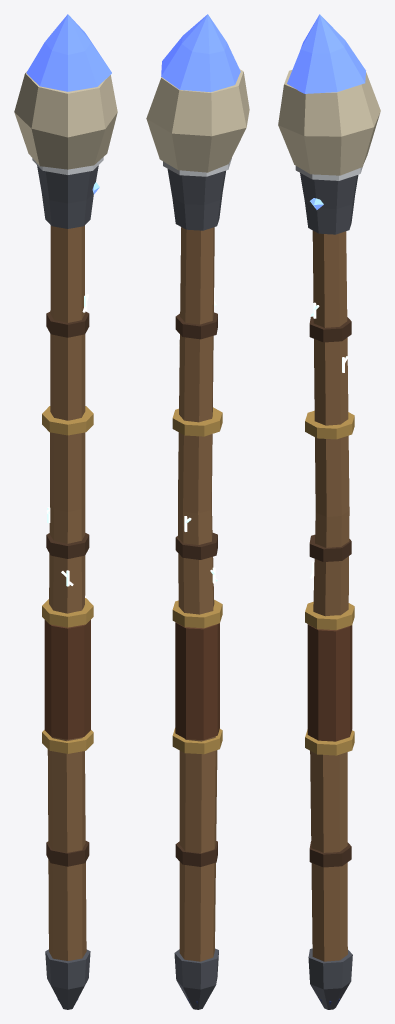
File: Weapon_BrushStaff.glb
3 views of the same model, side by side, from view 1: azimuth 90°, elevation 25°; view 2: azimuth 150°, elevation 25°; view 3: azimuth 330°, elevation 25° (orthographic).
Visible parts, largest first — view 1: WpnWood__WpnWood, WpnPage__WpnPage, WpnGrip__WpnGrip, WpnMetal__WpnMetal, WpnInk__WpnInk, WpnTrim__WpnTrim, WpnWoodDark__WpnWoodDark, WpnEdge__WpnEdge; view 2: WpnWood__WpnWood, WpnPage__WpnPage, WpnGrip__WpnGrip, WpnMetal__WpnMetal, WpnInk__WpnInk, WpnTrim__WpnTrim, WpnWoodDark__WpnWoodDark, WpnEdge__WpnEdge; view 3: WpnWood__WpnWood, WpnPage__WpnPage, WpnGrip__WpnGrip, WpnMetal__WpnMetal, WpnInk__WpnInk, WpnTrim__WpnTrim, WpnWoodDark__WpnWoodDark, WpnEdge__WpnEdge.
Part boxes in pixels (x1,y1,x2,y2): WpnWood__WpnWood: [47, 225, 86, 960]; WpnPage__WpnPage: [14, 71, 117, 169]; WpnGrip__WpnGrip: [44, 620, 90, 739]; WpnMetal__WpnMetal: [37, 165, 98, 1009]; WpnInk__WpnInk: [26, 14, 111, 91]; WpnTrim__WpnTrim: [42, 406, 93, 753]; WpnWoodDark__WpnWoodDark: [46, 311, 89, 866]; WpnEdge__WpnEdge: [32, 157, 103, 174]; WpnWood__WpnWood: [178, 227, 217, 961]; WpnPage__WpnPage: [146, 69, 249, 172]; WpnGrip__WpnGrip: [175, 622, 219, 740]; WpnMetal__WpnMetal: [167, 169, 225, 1009]; WpnInk__WpnInk: [161, 14, 240, 92]; WpnTrim__WpnTrim: [172, 407, 222, 754]; WpnWoodDark__WpnWoodDark: [175, 312, 217, 866]; WpnEdge__WpnEdge: [163, 158, 231, 176]; WpnWood__WpnWood: [310, 230, 349, 961]; WpnPage__WpnPage: [278, 70, 380, 175]; WpnGrip__WpnGrip: [307, 624, 352, 741]; WpnMetal__WpnMetal: [300, 173, 358, 1009]; WpnInk__WpnInk: [287, 14, 365, 93]; WpnTrim__WpnTrim: [305, 410, 354, 755]; WpnWoodDark__WpnWoodDark: [309, 316, 351, 867]; WpnEdge__WpnEdge: [295, 166, 362, 180].
Size of the model in its own units: 0.00909 by 0.0925 by 0.00869.
